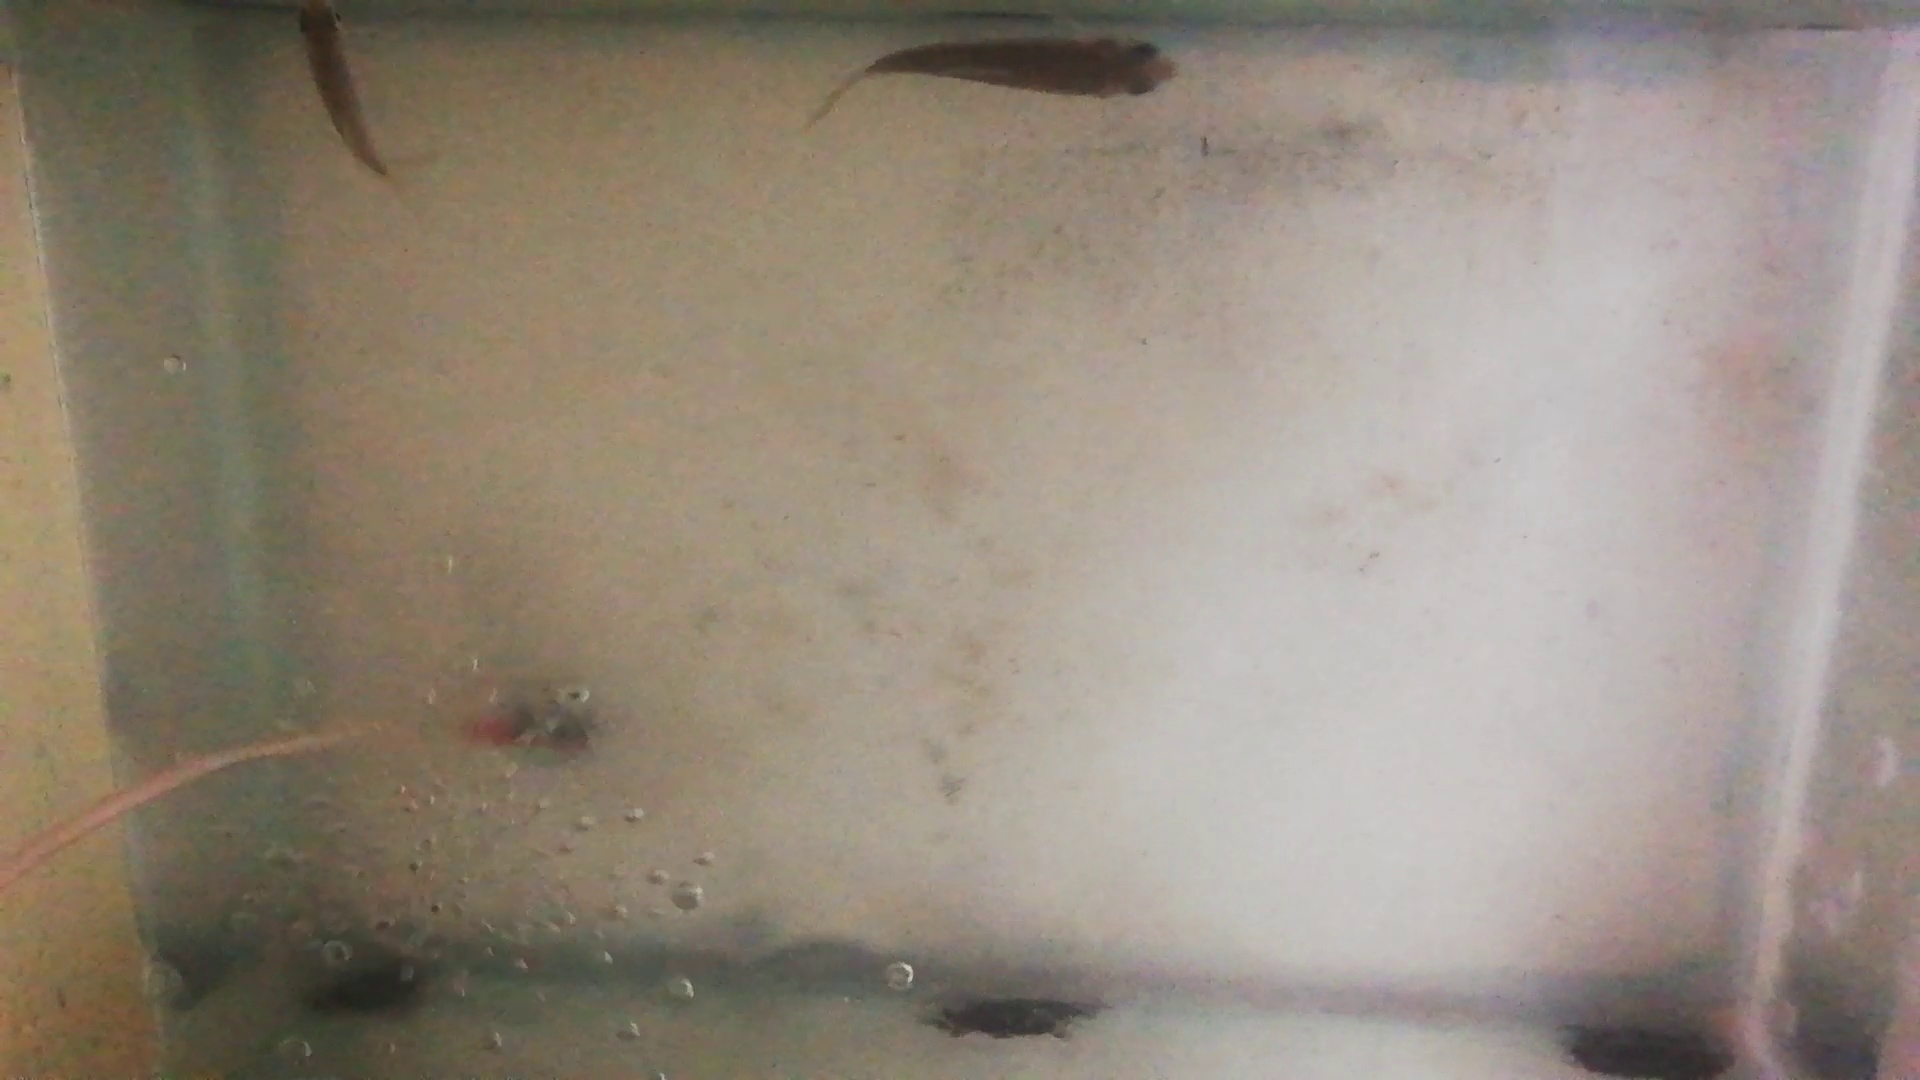fish: (872, 33, 1183, 99), (295, 1, 381, 173)
